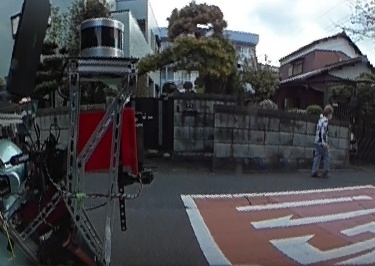person: (312, 101, 335, 176)
